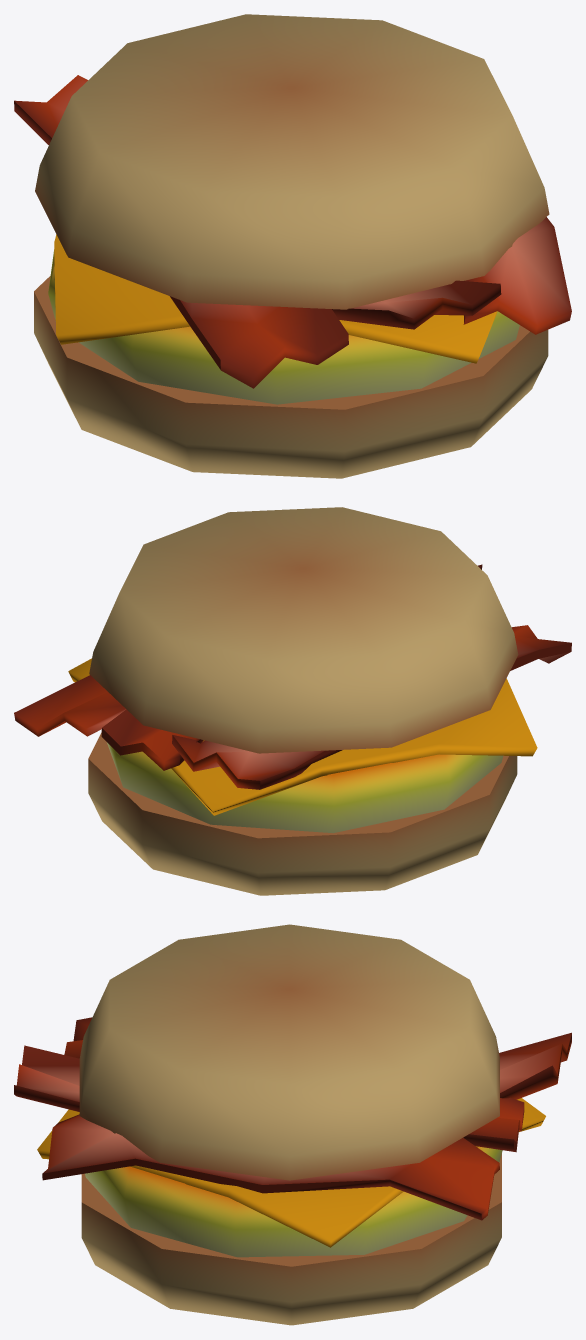
Rendered from grenade_Breakfast.glb.
The picture shows the model from 3 angles, top to bottom: view 1: azimuth 30°, elevation 25°; view 2: azimuth 150°, elevation 25°; view 3: azimuth 270°, elevation 25°; orthographic projection. The views are drawn at different scales.
Parts seen in each view (by area): view 1: grenade_Breakfast; view 2: grenade_Breakfast; view 3: grenade_Breakfast.
Boxes of the visible parts, x1=… form: grenade_Breakfast: x1=14, y1=14, x2=571, y2=478; grenade_Breakfast: x1=14, y1=507, x2=571, y2=895; grenade_Breakfast: x1=14, y1=924, x2=571, y2=1325.
Size of the model in its own units: 0.1594 by 0.086 by 0.1747.
